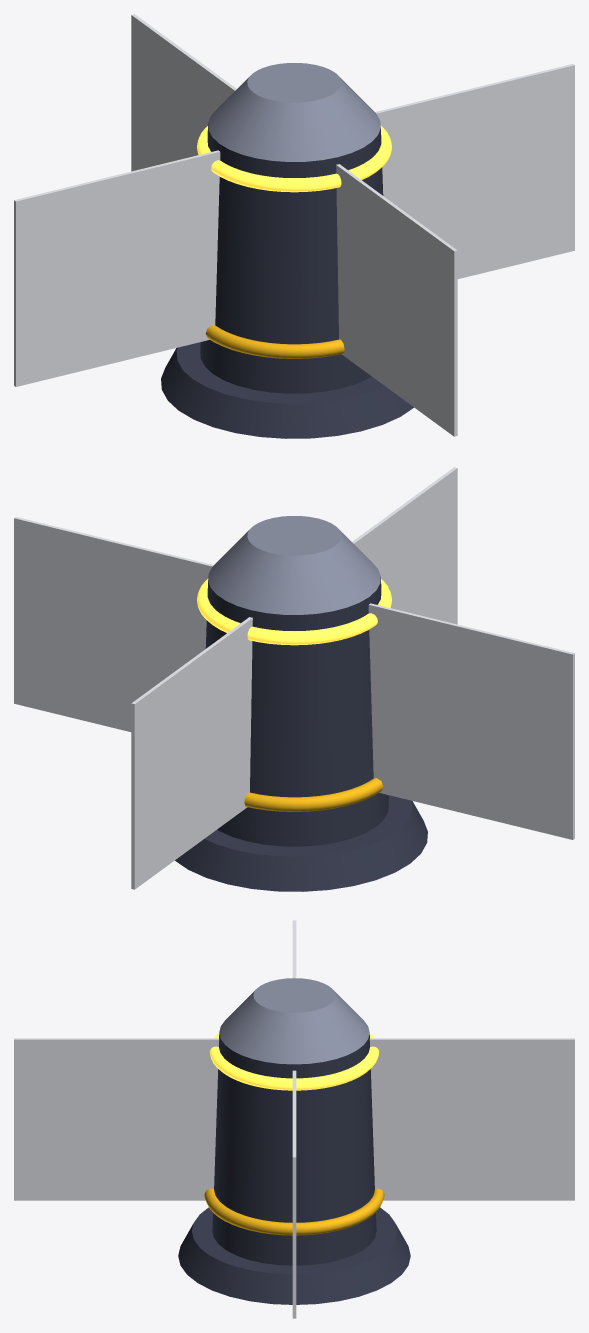
The model's file is reactor.glb.
3 renders of one model, top to bottom at view 1: azimuth 30°, elevation 25°; view 2: azimuth 150°, elevation 25°; view 3: azimuth 270°, elevation 25°, orthographic. The views are drawn at different scales.
Parts seen in each view (by area): view 1: reactor, nucleo; view 2: reactor, nucleo; view 3: reactor, nucleo.
Boxes of the visible parts, x1,y1,x2,y2 form: reactor: (14,14,574,438); nucleo: (197,126,391,192); reactor: (14,467,574,891); nucleo: (197,579,391,645); reactor: (14,920,574,1318); nucleo: (210,1033,378,1090).
Bounding box in the file's own units: 8.2 × 4.2 × 8.2.
